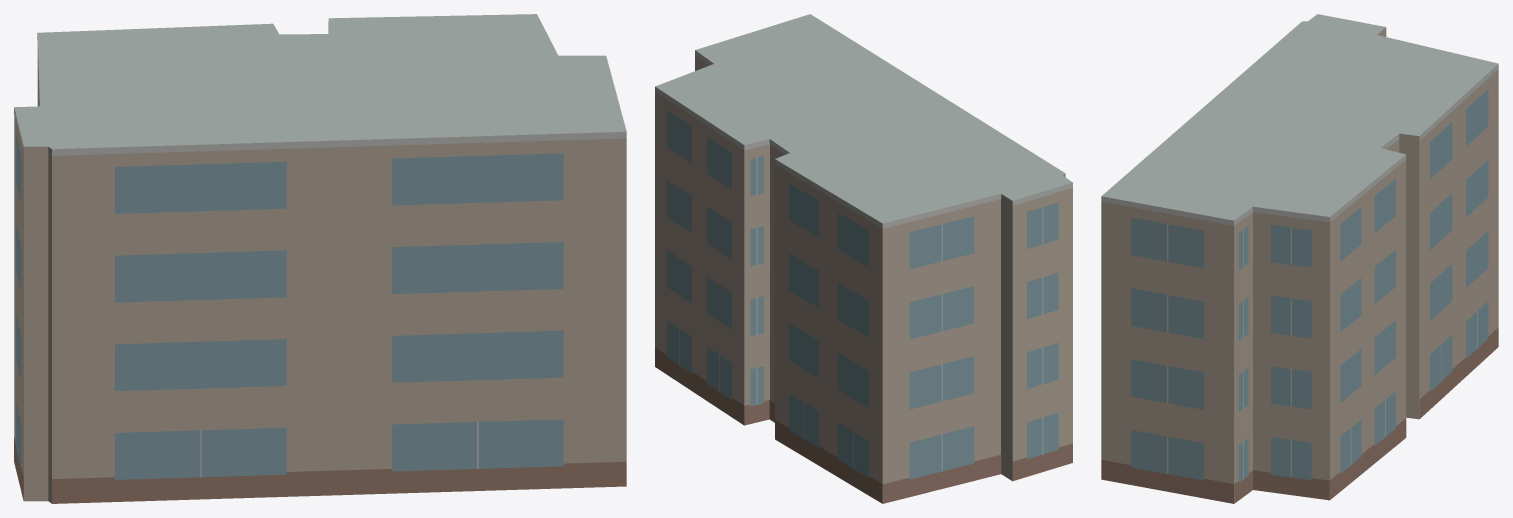
File: survey-upis-32632723.glb
3 views of the same model, side by side, from view 1: azimuth 30°, elevation 25°; view 2: azimuth 150°, elevation 25°; view 3: azimuth 270°, elevation 25° (orthographic). The views are drawn at different scales.
Visible parts, largest first — view 1: survey-upis-32632723.tmp; view 2: survey-upis-32632723.tmp; view 3: survey-upis-32632723.tmp.
Boxes of the visible parts, x1,y1,x2,y2 form: survey-upis-32632723.tmp: [14, 14, 626, 503]; survey-upis-32632723.tmp: [655, 14, 1072, 503]; survey-upis-32632723.tmp: [1101, 14, 1498, 503].
Bounding box in the file's own units: 20.5 × 13.1 × 16.66.
